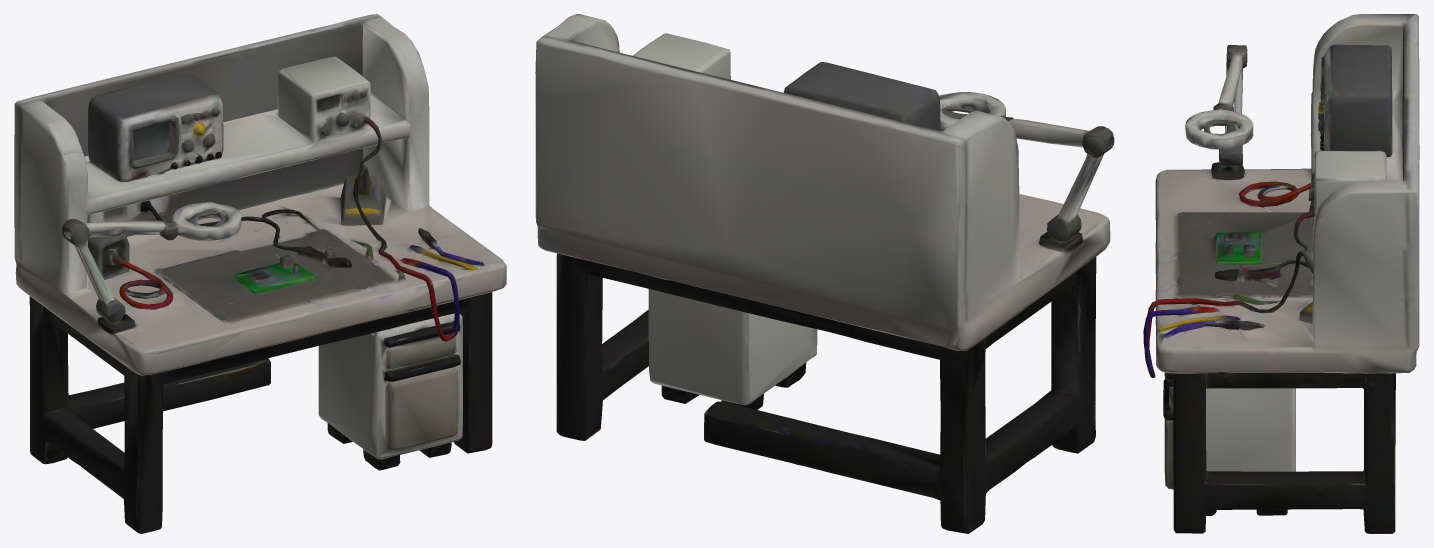
Rendered from oscilloscope_station.glb.
The picture shows the model from 3 angles, left to right: view 1: azimuth 30°, elevation 25°; view 2: azimuth 150°, elevation 25°; view 3: azimuth 270°, elevation 25°; orthographic projection. The views are drawn at different scales.
Visible parts, largest first — view 1: geometry_0; view 2: geometry_0; view 3: geometry_0.
Boxes of the visible parts, x1=… form: geometry_0: x1=14, y1=14, x2=506, y2=533; geometry_0: x1=535, y1=14, x2=1114, y2=533; geometry_0: x1=1143, y1=14, x2=1419, y2=533.
Bounding box in the file's own units: 1 × 0.8201 × 0.5891.
1 material, 1 textured.
